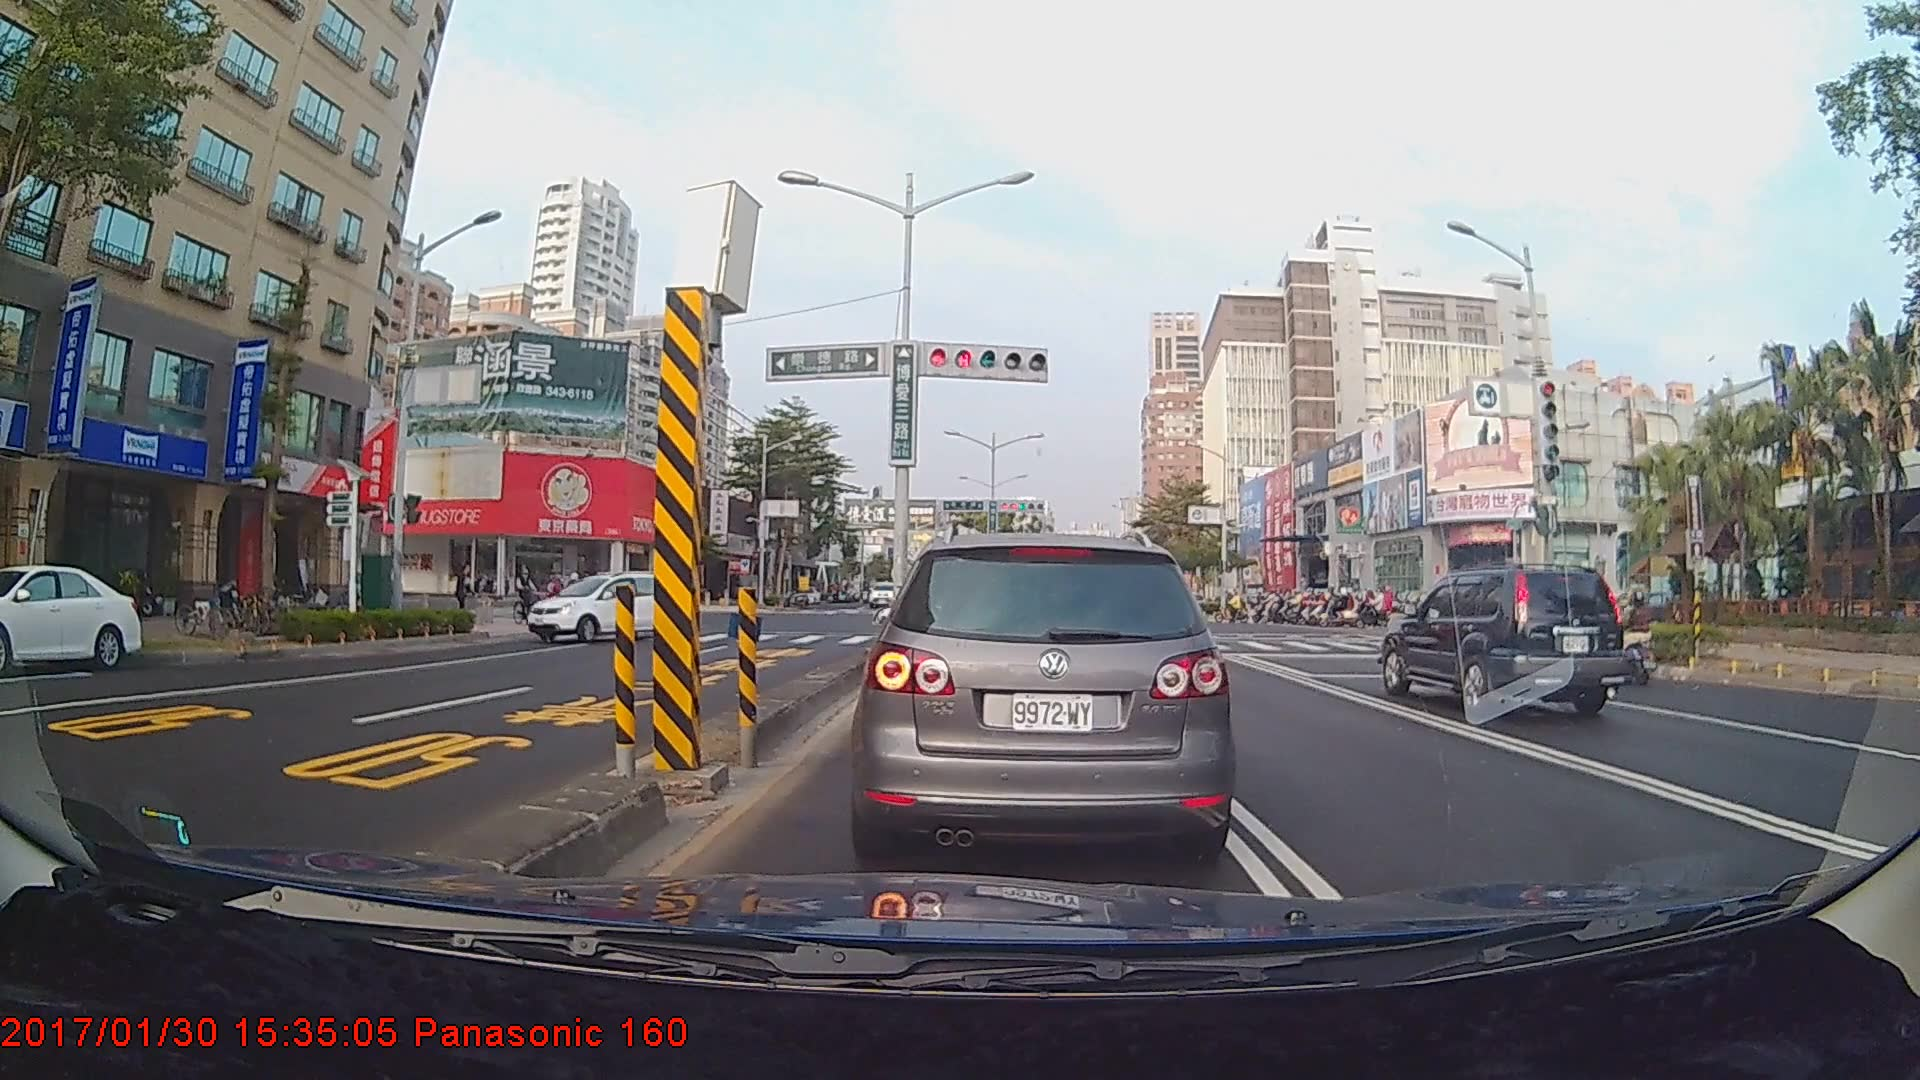pedestrian: (453, 565, 474, 625)
rider: (515, 566, 546, 627)
vehicle: (844, 517, 1238, 862), (1382, 560, 1632, 710), (0, 566, 143, 675), (527, 570, 686, 642)
